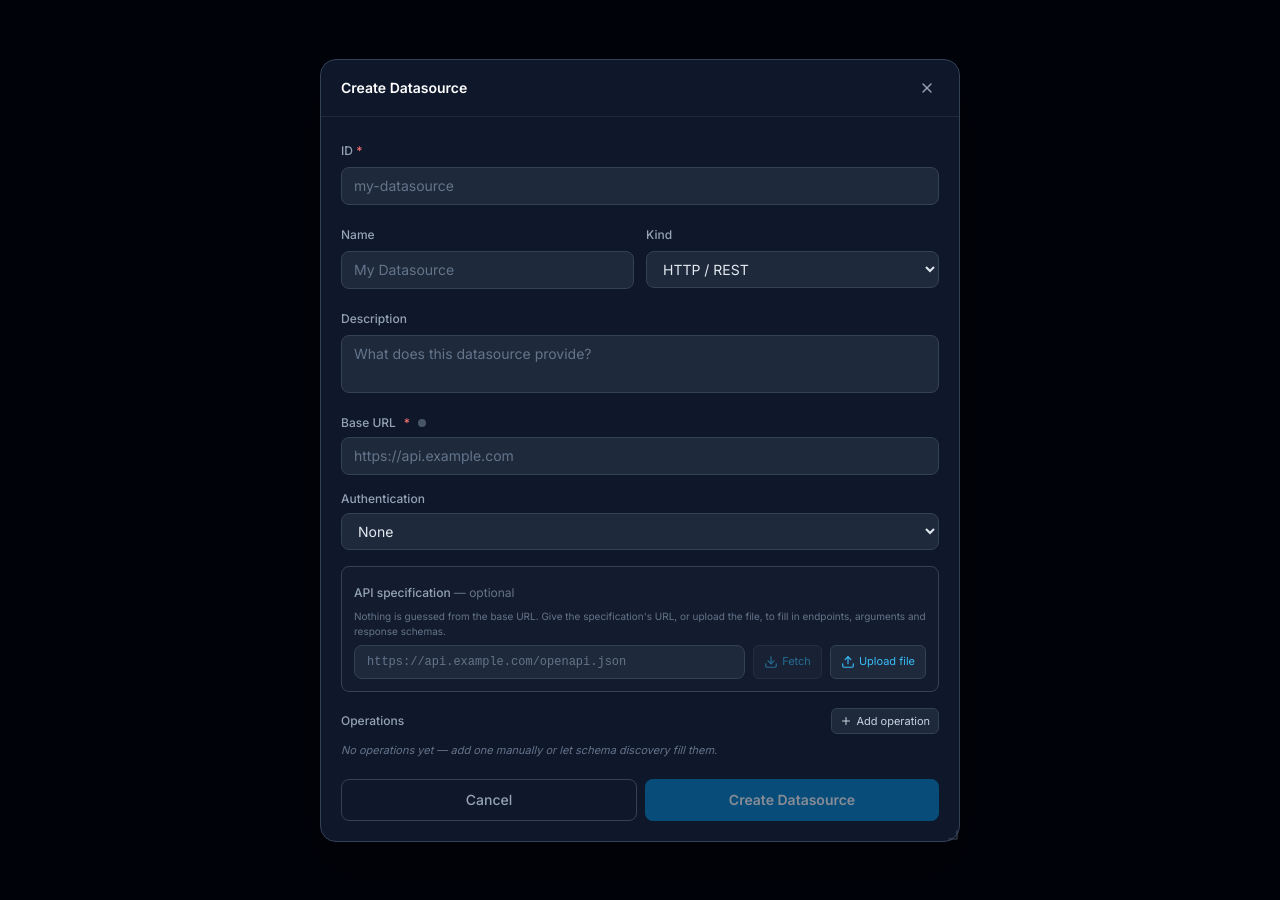
it: DatasourceModal specification import › fetches the schema through the backend and lists the operations to pick
Type "https://api.test/openapi.json" into the field with placeholder "https://api.example.com/openapi.json" at (550, 662), box [354, 644, 745, 678]
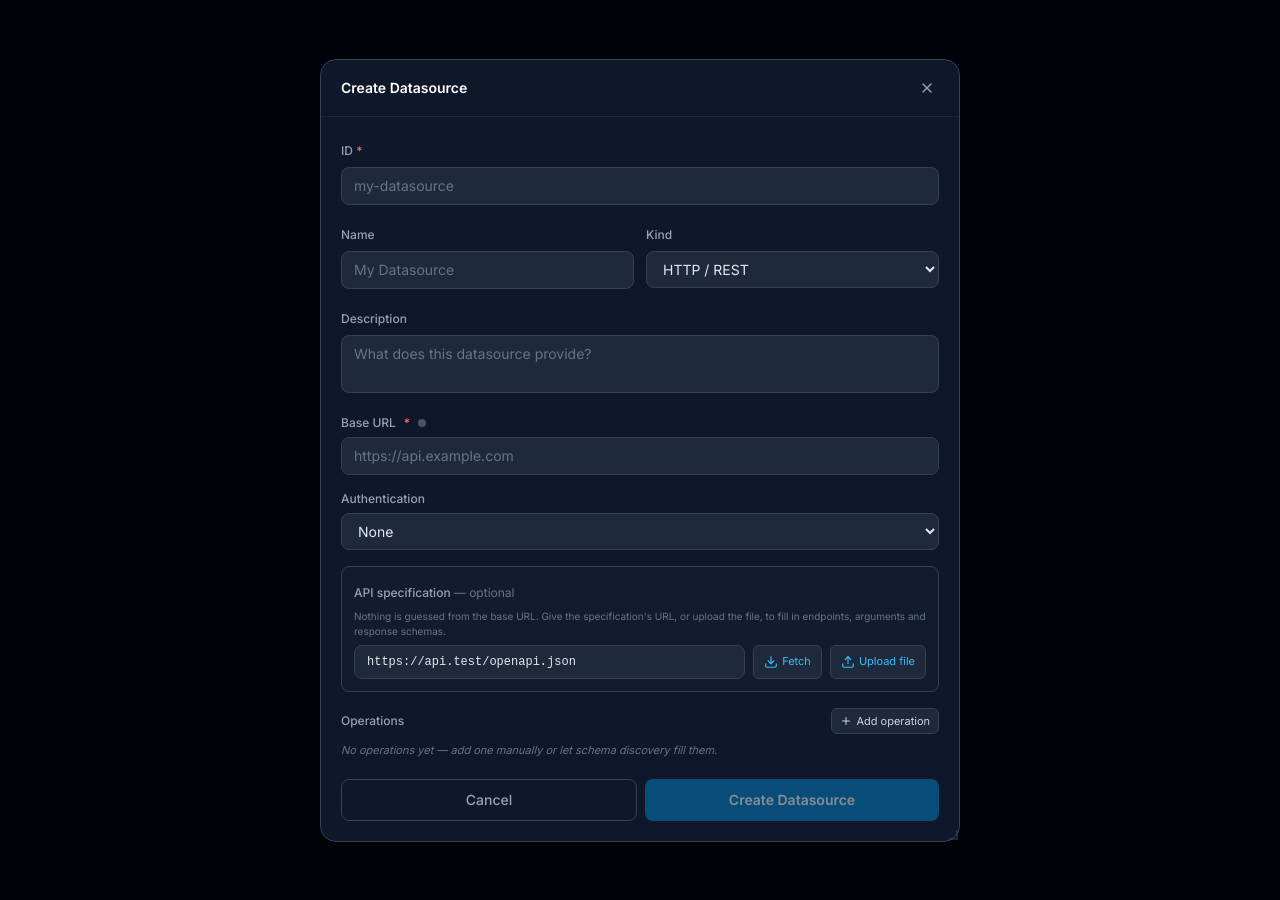
Click the button "Fetch" at (788, 662), box [753, 644, 822, 678]
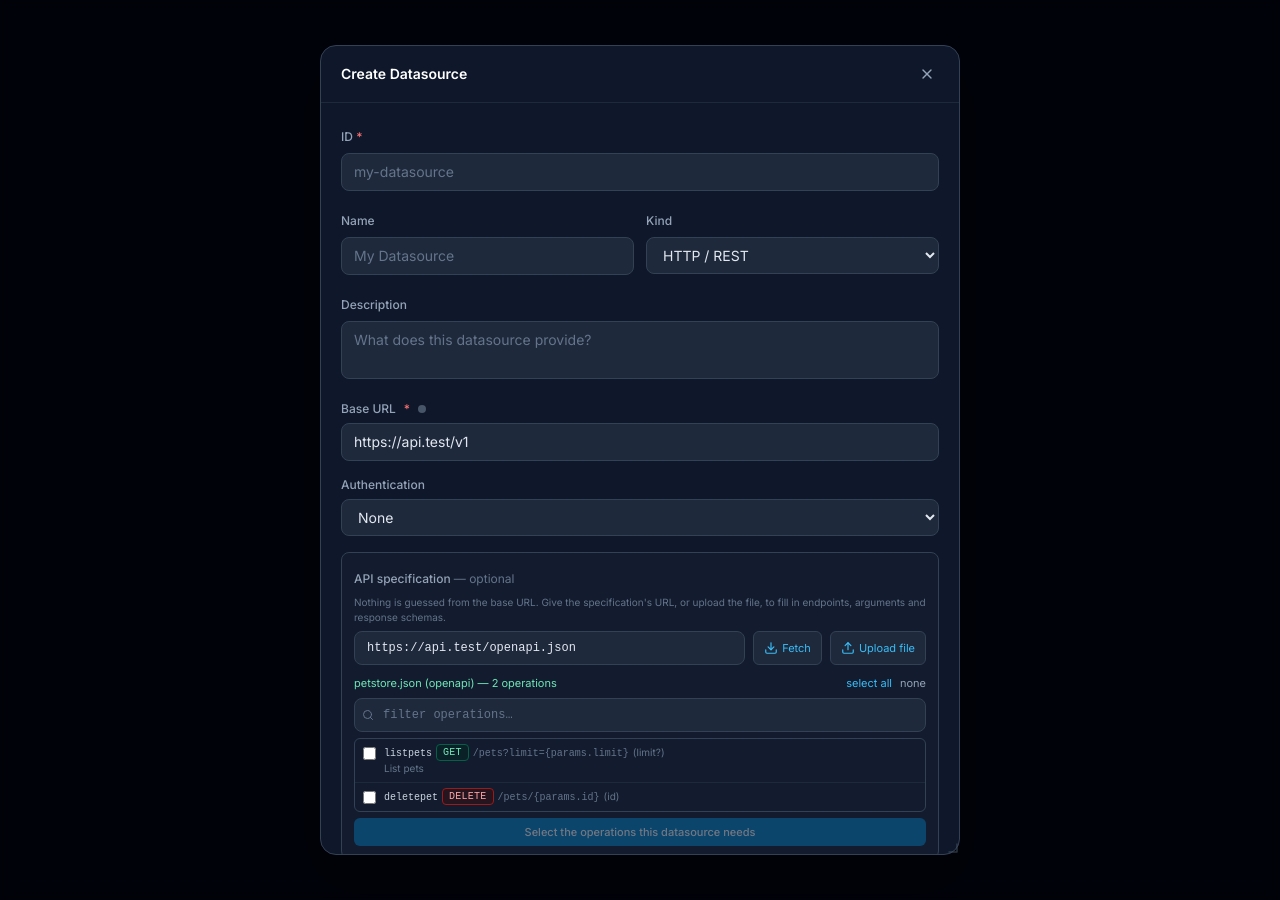
Now the text "listpets" is shown, box [384, 748, 432, 758]
Now the text "deletepet" is shown, box [384, 792, 438, 802]
Now the button "Select the operations this datasource needs" is disabled, box [354, 818, 926, 846]
